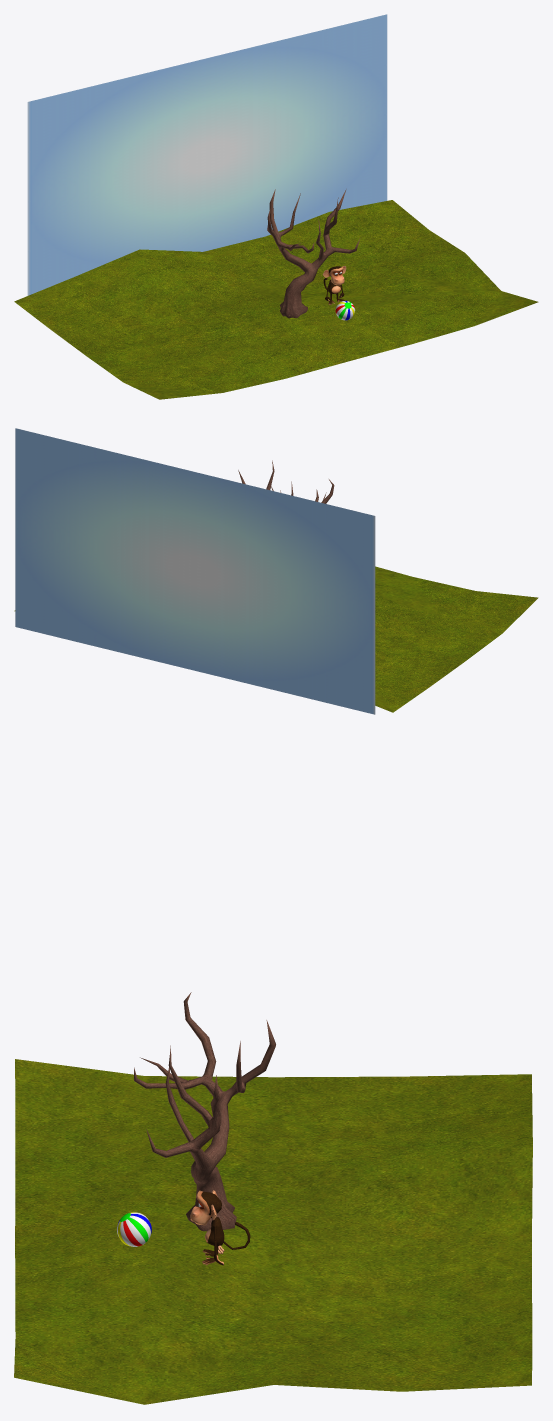
The model's file is sample_scene_noleaf.obj.
3 views of the same model, one above another, from view 1: azimuth 30°, elevation 25°; view 2: azimuth 150°, elevation 25°; view 3: azimuth 270°, elevation 25° (orthographic). The views are drawn at different scales.
Parts seen in each view (by area): view 1: background simple_scene, simple_scene ground, simple_scene tree, simple_scene monkey; view 2: background simple_scene, simple_scene ground; view 3: simple_scene ground, simple_scene tree, simple_scene monkey, simple_scene ball.
Boxes of the visible parts, x1=… form: background simple_scene: x1=27, y1=14, x2=387, y2=295; simple_scene ground: x1=14, y1=200, x2=538, y2=399; simple_scene tree: x1=267, y1=189, x2=360, y2=318; simple_scene monkey: x1=322, y1=266, x2=346, y2=304; background simple_scene: x1=15, y1=428, x2=375, y2=714; simple_scene ground: x1=14, y1=566, x2=538, y2=712; simple_scene ground: x1=14, y1=1059, x2=532, y2=1404; simple_scene tree: x1=134, y1=992, x2=275, y2=1231; simple_scene monkey: x1=190, y1=1190, x2=250, y2=1265; simple_scene ball: x1=117, y1=1212, x2=151, y2=1246.
Size of the model in its own units: 9.66 by 4.84 by 6.53.
5 materials, 5 textured.
